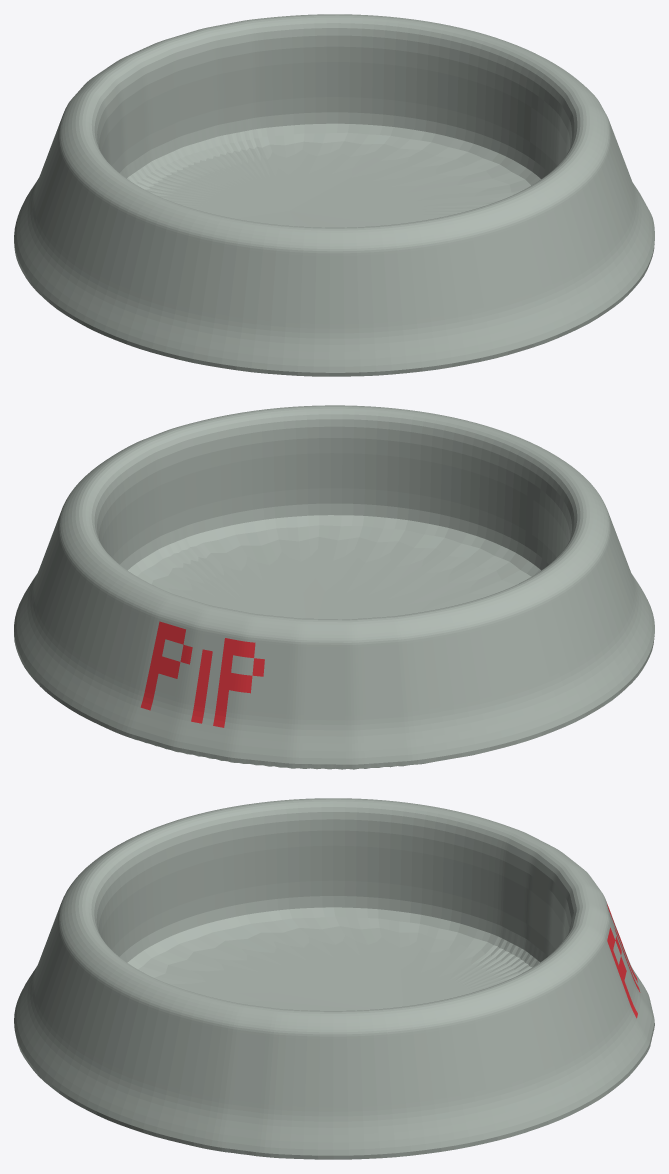
Rendered from foodbowl.fbx.
The picture shows the model from 3 angles, top to bottom: view 1: azimuth 30°, elevation 25°; view 2: azimuth 150°, elevation 25°; view 3: azimuth 270°, elevation 25°; orthographic projection.
Visible parts, largest first — view 1: Cylinder; view 2: Cylinder; view 3: Cylinder.
Part boxes in pixels (bbox=[...]): Cylinder: bbox=[14, 14, 654, 376]; Cylinder: bbox=[14, 405, 654, 769]; Cylinder: bbox=[14, 798, 654, 1159].
Size of the model in its own units: 58.94 by 12.92 by 59.11.
